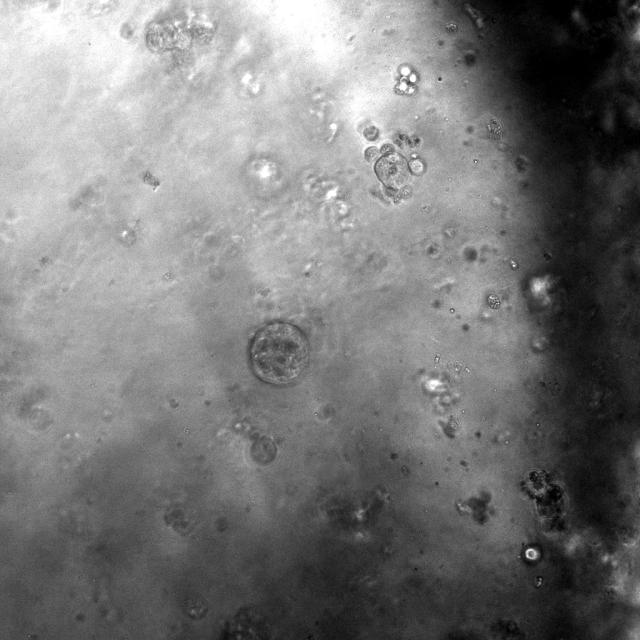organoid: (248, 321, 308, 385), (365, 143, 426, 204), (520, 469, 568, 535), (144, 14, 215, 52), (234, 421, 277, 465), (456, 490, 494, 524), (394, 64, 418, 95), (439, 414, 462, 438), (392, 132, 421, 148), (486, 118, 502, 140), (363, 125, 379, 140), (486, 294, 500, 309), (446, 23, 457, 33), (509, 259, 519, 269), (437, 76, 443, 82)
